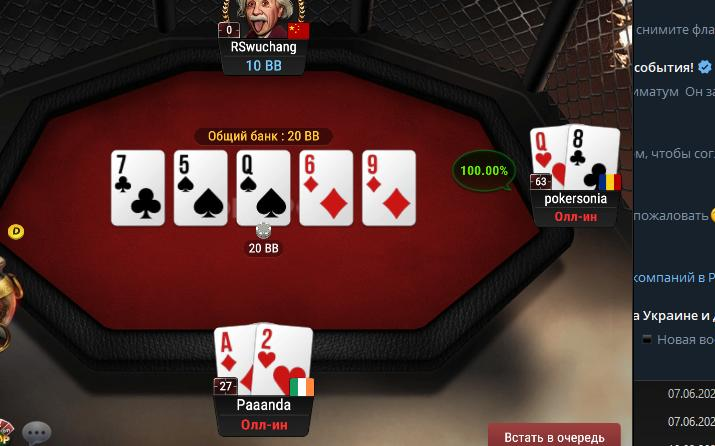2h: (255, 323, 313, 396)
5s: (174, 150, 226, 226)
6d: (299, 151, 353, 226)
7c: (111, 152, 164, 226)
8c: (567, 125, 621, 194)
9d: (362, 151, 414, 225)
Ad: (213, 326, 255, 394)
Qh: (530, 126, 566, 190)
Qs: (236, 151, 288, 224)
